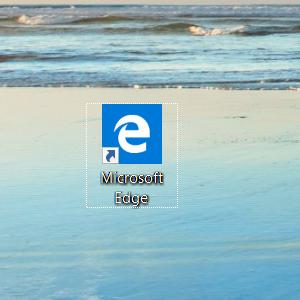edge: (102, 104, 162, 164)
